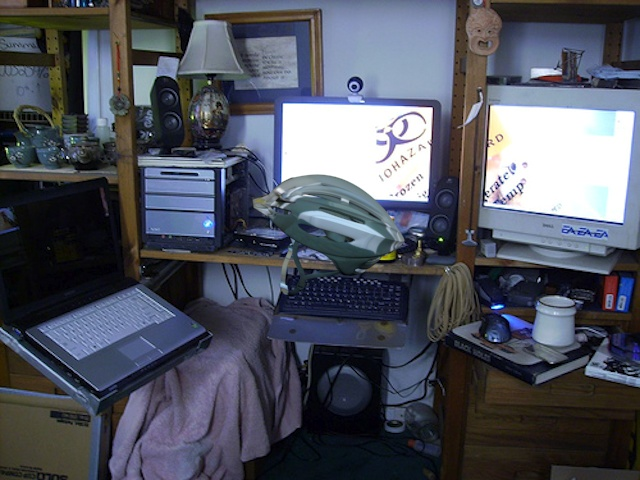bike_helmet: (241, 161, 416, 304)
